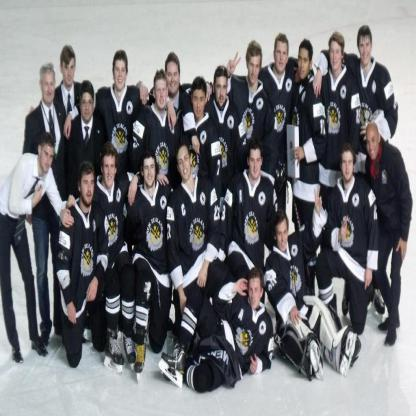face: (178, 147, 192, 179), (167, 63, 180, 95), (42, 74, 56, 103), (82, 174, 95, 205), (276, 222, 289, 252), (367, 129, 379, 160), (104, 156, 116, 187), (249, 279, 261, 310), (41, 148, 55, 174), (276, 43, 288, 73), (250, 150, 262, 179), (156, 80, 168, 109), (216, 77, 228, 106), (144, 159, 156, 188), (81, 94, 94, 120), (360, 37, 372, 65), (331, 42, 343, 70), (342, 153, 354, 181), (115, 62, 127, 90), (63, 59, 75, 87), (249, 56, 261, 83), (194, 90, 206, 117), (299, 49, 310, 78)
